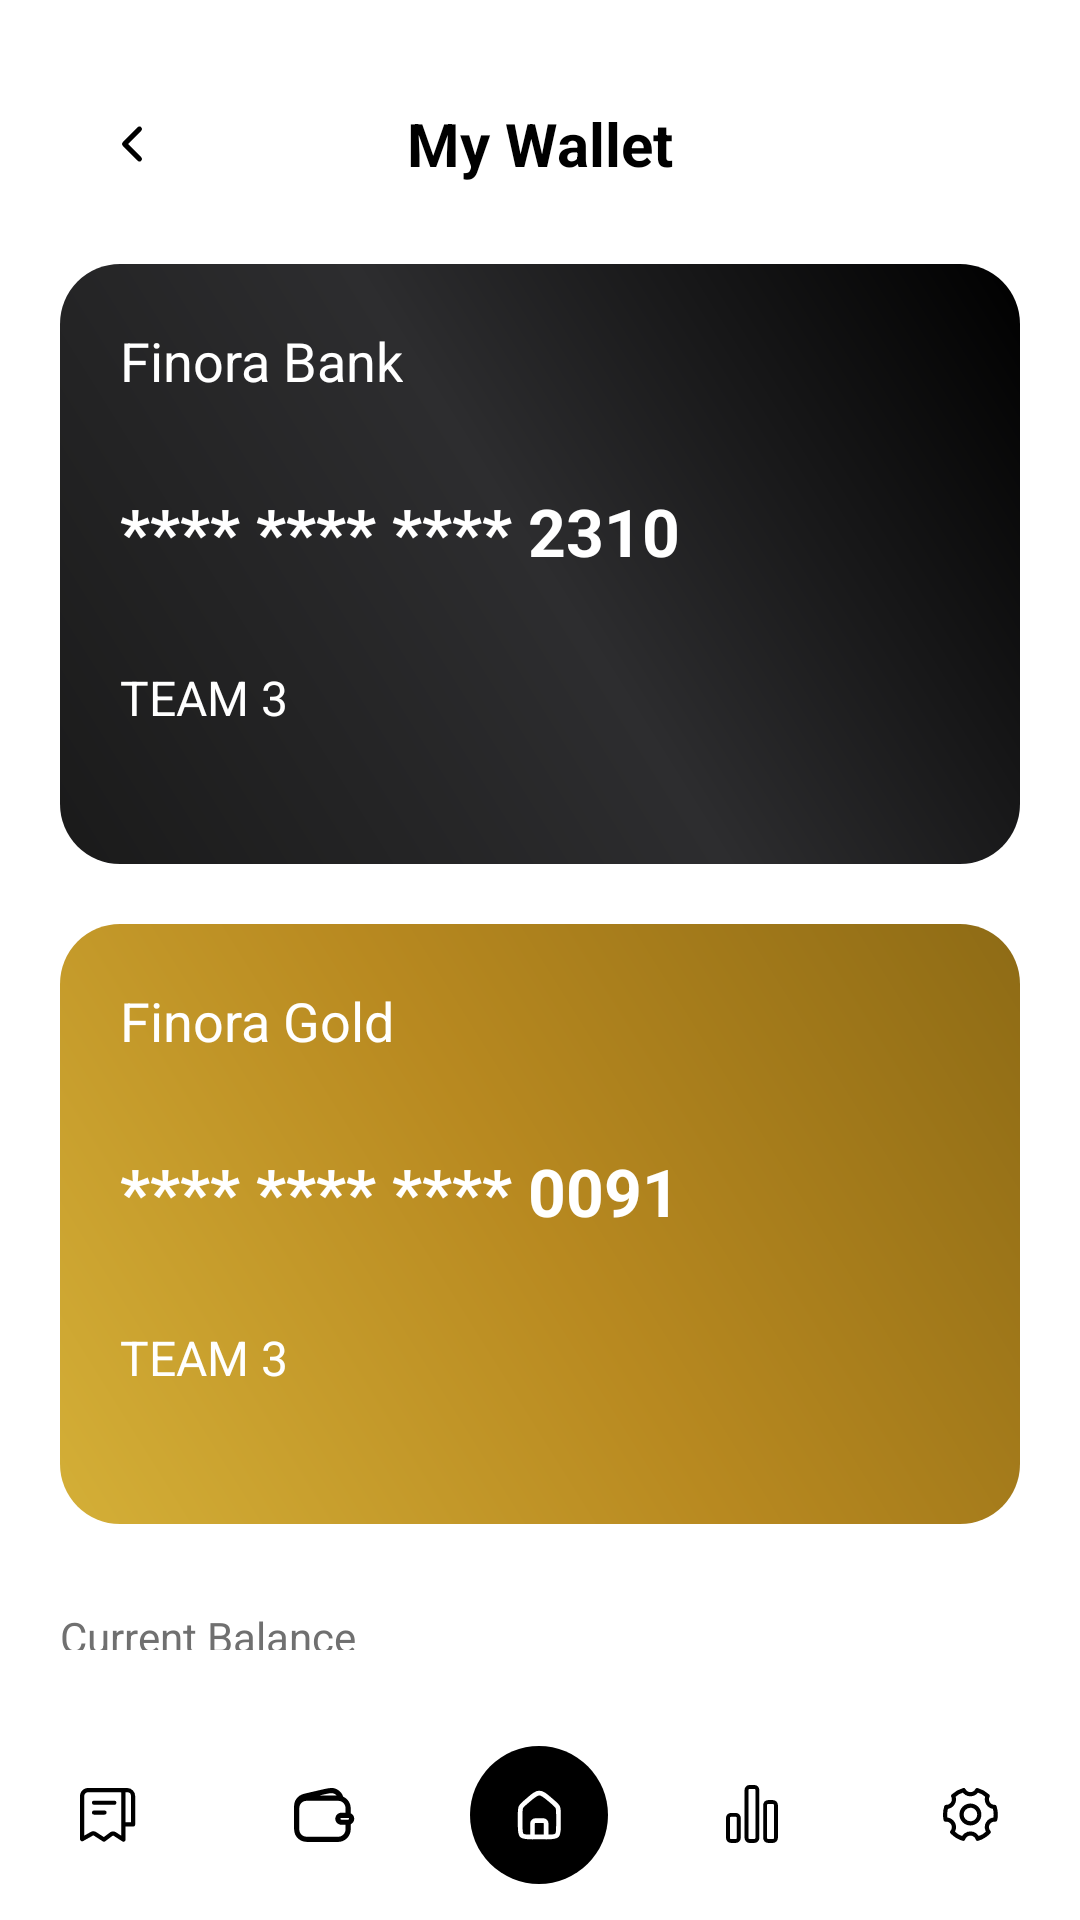

Screen size 1080 x 1920. Icon name, then its center in pixels as [x,y]:
back: [132,144]
bill: [108,1815]
dash: [539,1815]
setting: [970,1814]
stats: [752,1814]
wallet: [324,1815]
